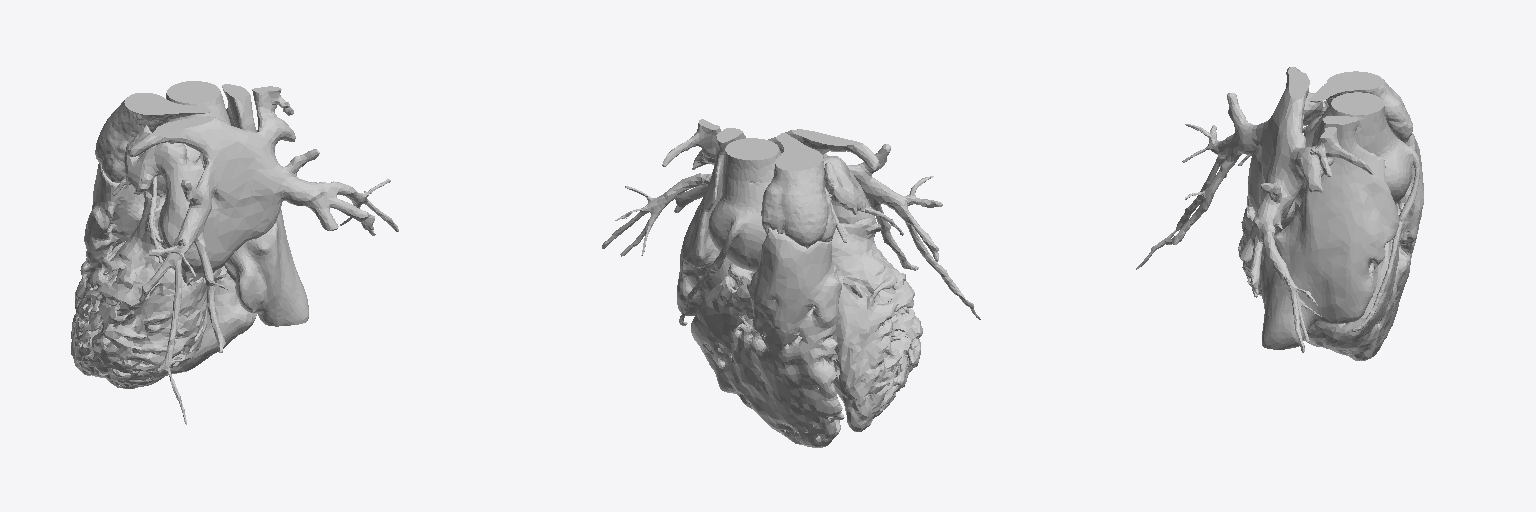
The model's file is 2018016-01Aortalowres.obj.
3 views of the same model, side by side, from view 1: azimuth 30°, elevation 25°; view 2: azimuth 150°, elevation 25°; view 3: azimuth 270°, elevation 25° (orthographic).
Parts seen in each view (by area): view 1: [number redacted]_Left_Atrium, [number redacted]_Left_Ventricle, [number redacted]_Right_Atrium, [number redacted]_Right_Ventricle, [number redacted]_Pulmonary_Artery, [number redacted]_Aorta; view 2: [number redacted]_Right_Ventricle, [number redacted]_Left_Ventricle, [number redacted]_Left_Atrium, [number redacted]_Aorta, [number redacted]_Pulmonary_Artery, [number redacted]_Right_Atrium; view 3: [number redacted]_Right_Atrium, [number redacted]_Left_Atrium, [number redacted]_Right_Ventricle, [number redacted]_Aorta, [number redacted]_Pulmonary_Artery, [number redacted]_Left_Ventricle.
Part boxes in pixels (x1,y1,x2,y2): [number redacted]_Left_Atrium: (124, 86, 398, 424); [number redacted]_Left_Ventricle: (71, 191, 226, 380); [number redacted]_Right_Atrium: (222, 84, 308, 326); [number redacted]_Right_Ventricle: (75, 163, 257, 388); [number redacted]_Pulmonary_Artery: (95, 93, 211, 182); [number redacted]_Aorta: (112, 81, 230, 263); [number redacted]_Right_Ventricle: (691, 228, 844, 447); [number redacted]_Left_Ventricle: (824, 218, 922, 431); [number redacted]_Left_Atrium: (602, 119, 980, 319); [number redacted]_Aorta: (679, 138, 903, 325); [number redacted]_Pulmonary_Artery: (761, 133, 835, 248); [number redacted]_Right_Atrium: (677, 128, 754, 315); [number redacted]_Right_Atrium: (1259, 116, 1399, 349); [number redacted]_Left_Atrium: (1136, 67, 1374, 352); [number redacted]_Right_Ventricle: (1303, 133, 1423, 360); [number redacted]_Aorta: (1238, 92, 1419, 331); [number redacted]_Pulmonary_Artery: (1308, 71, 1412, 142); [number redacted]_Left_Ventricle: (1238, 196, 1298, 295).
Bounding box in the file's own units: 160 × 140 × 129.